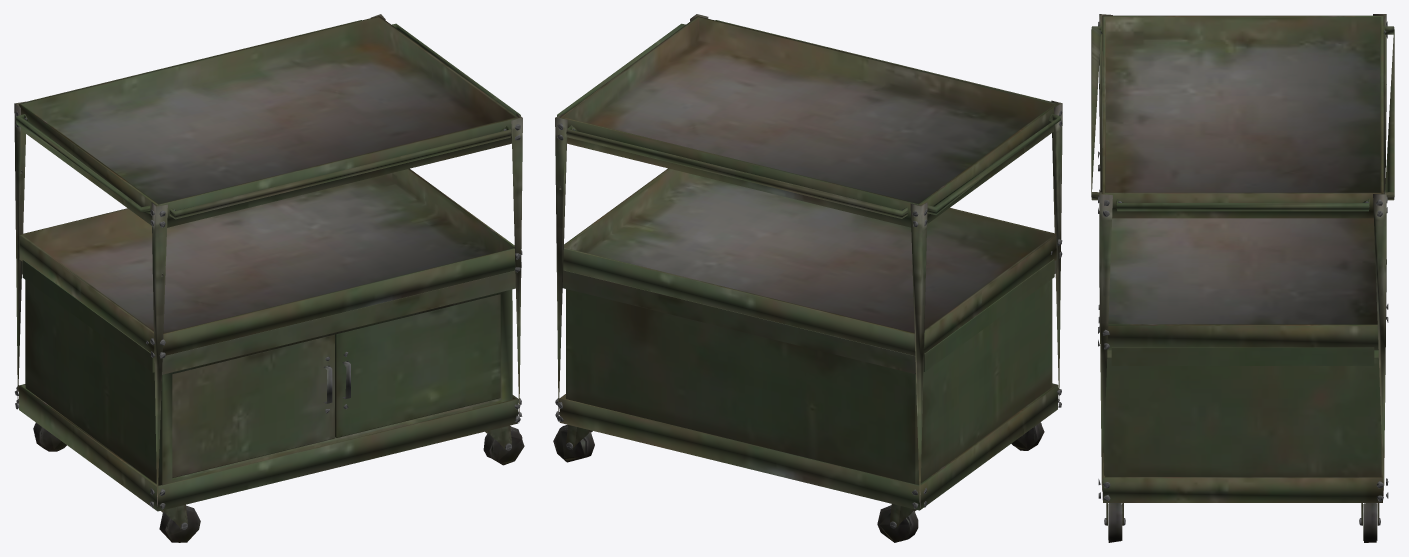
File: industrial_storage_cart.glb
The picture shows the model from 3 angles, left to right: view 1: azimuth 30°, elevation 25°; view 2: azimuth 150°, elevation 25°; view 3: azimuth 270°, elevation 25°; orthographic projection.
Parts seen in each view (by area): view 1: industrial_storage_cart; view 2: industrial_storage_cart; view 3: industrial_storage_cart.
Part boxes in pixels (x1,y1,x2,y2): industrial_storage_cart: (14, 14, 524, 542); industrial_storage_cart: (553, 14, 1062, 542); industrial_storage_cart: (1091, 14, 1394, 542).
Bounding box in the file's own units: 1.58 × 1.38 × 1.08.
Materials: 1 (1 with a texture image).
